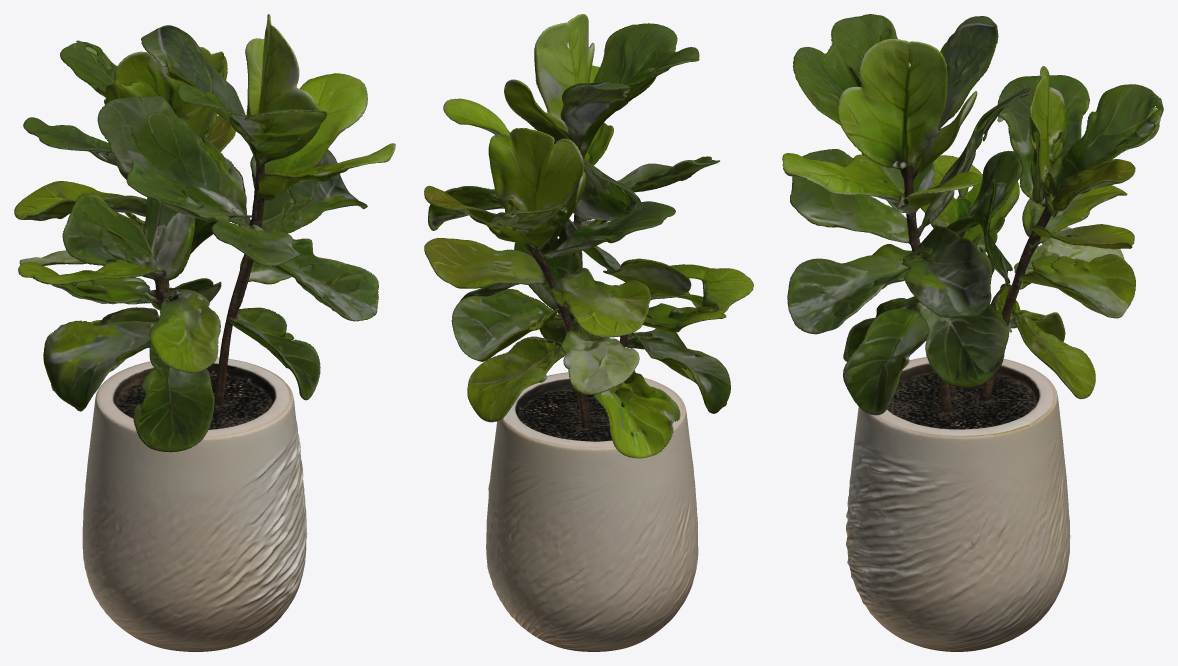
The model's file is 123_Original_09.glb.
3 renders of one model, left to right at view 1: azimuth 30°, elevation 25°; view 2: azimuth 150°, elevation 25°; view 3: azimuth 270°, elevation 25°, orthographic. The views are drawn at different scales.
Visible parts, largest first — view 1: tripo_node_9eb68c60-6fdc-4551-8ea8-df54b067363a; view 2: tripo_node_9eb68c60-6fdc-4551-8ea8-df54b067363a; view 3: tripo_node_9eb68c60-6fdc-4551-8ea8-df54b067363a.
Part boxes in pixels (<box>): tripo_node_9eb68c60-6fdc-4551-8ea8-df54b067363a: <box>14,14,395,651</box>; tripo_node_9eb68c60-6fdc-4551-8ea8-df54b067363a: <box>424,14,753,651</box>; tripo_node_9eb68c60-6fdc-4551-8ea8-df54b067363a: <box>782,14,1163,651</box>.
Bounding box in the file's own units: 0.5548 × 1 × 0.5628.
Materials: 1 (1 with a texture image).
